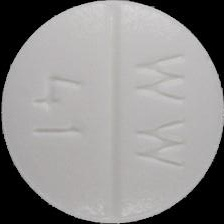63629-3870: (0, 0, 224, 224)
